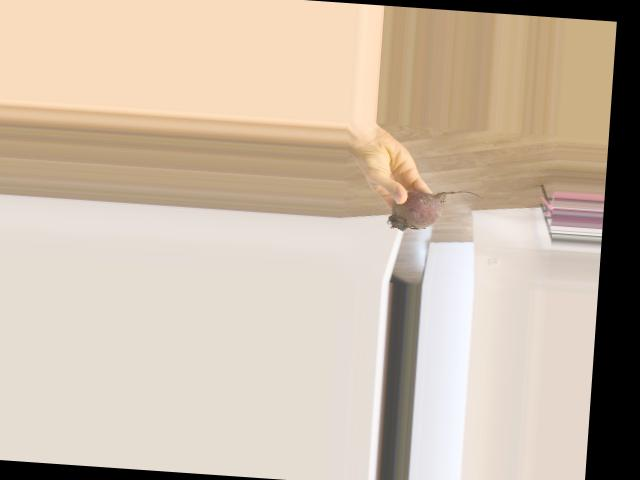beet: (388, 185, 483, 235)
